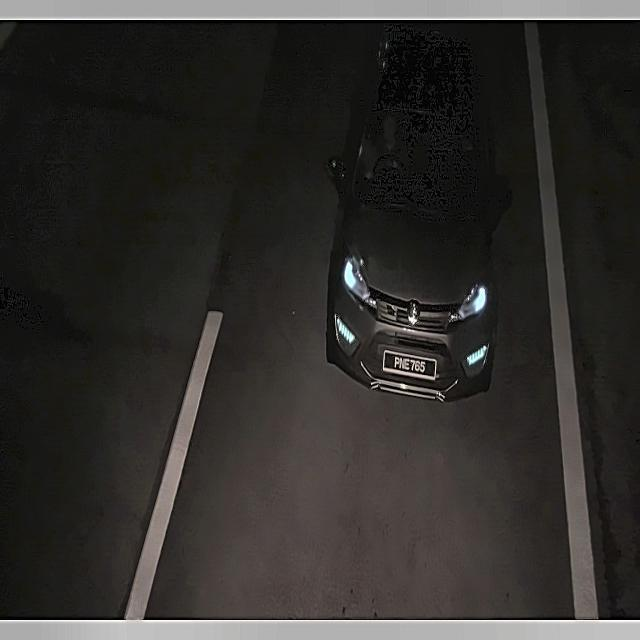car: (383, 350, 438, 384)
